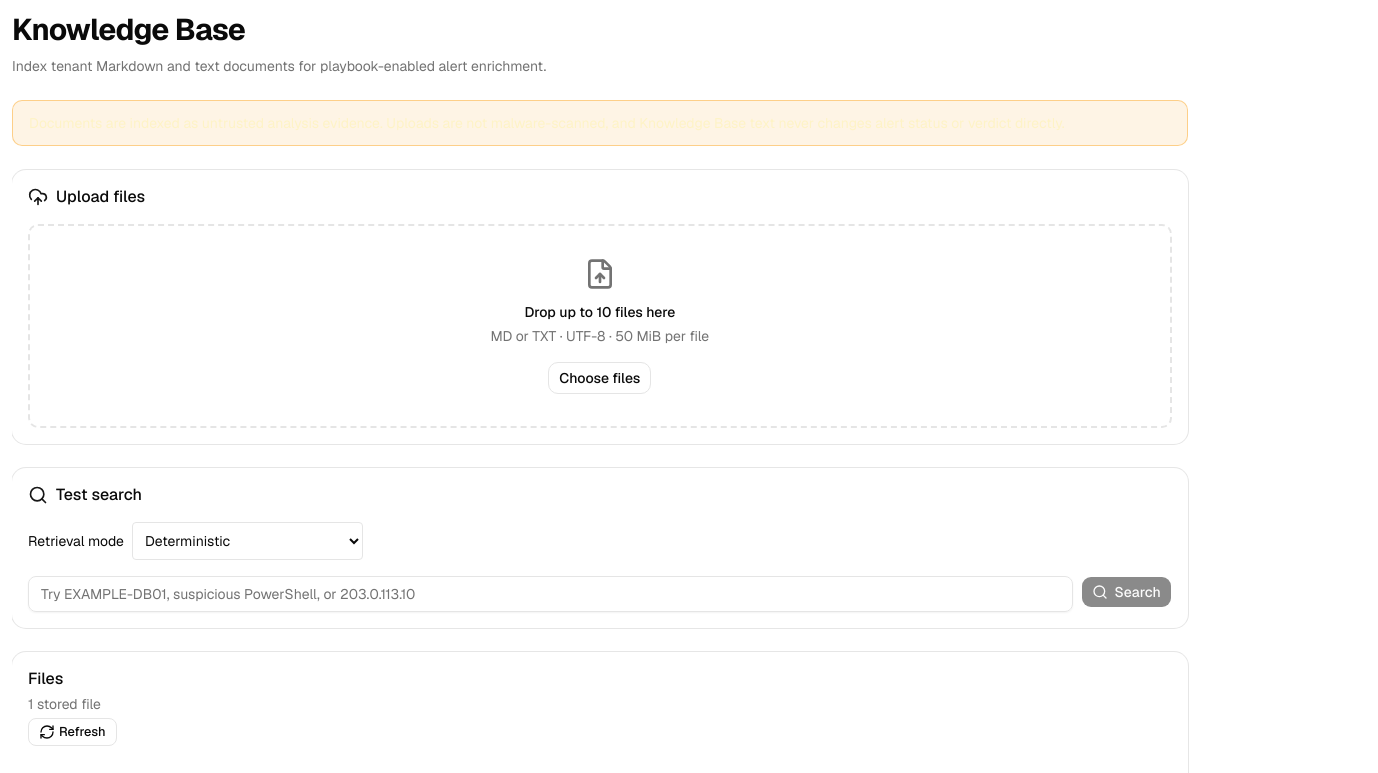
Test case: KnowledgeBaseView › shows deterministic manual search matches
This screenshot has width=1378, height=773.
Step 1. Type "EXAMPLE-DB01" into the field with placeholder "Try EXAMPLE-DB01, suspicious PowerShell, or 203.0.113.10" → (551, 594), box [28, 576, 1073, 612]
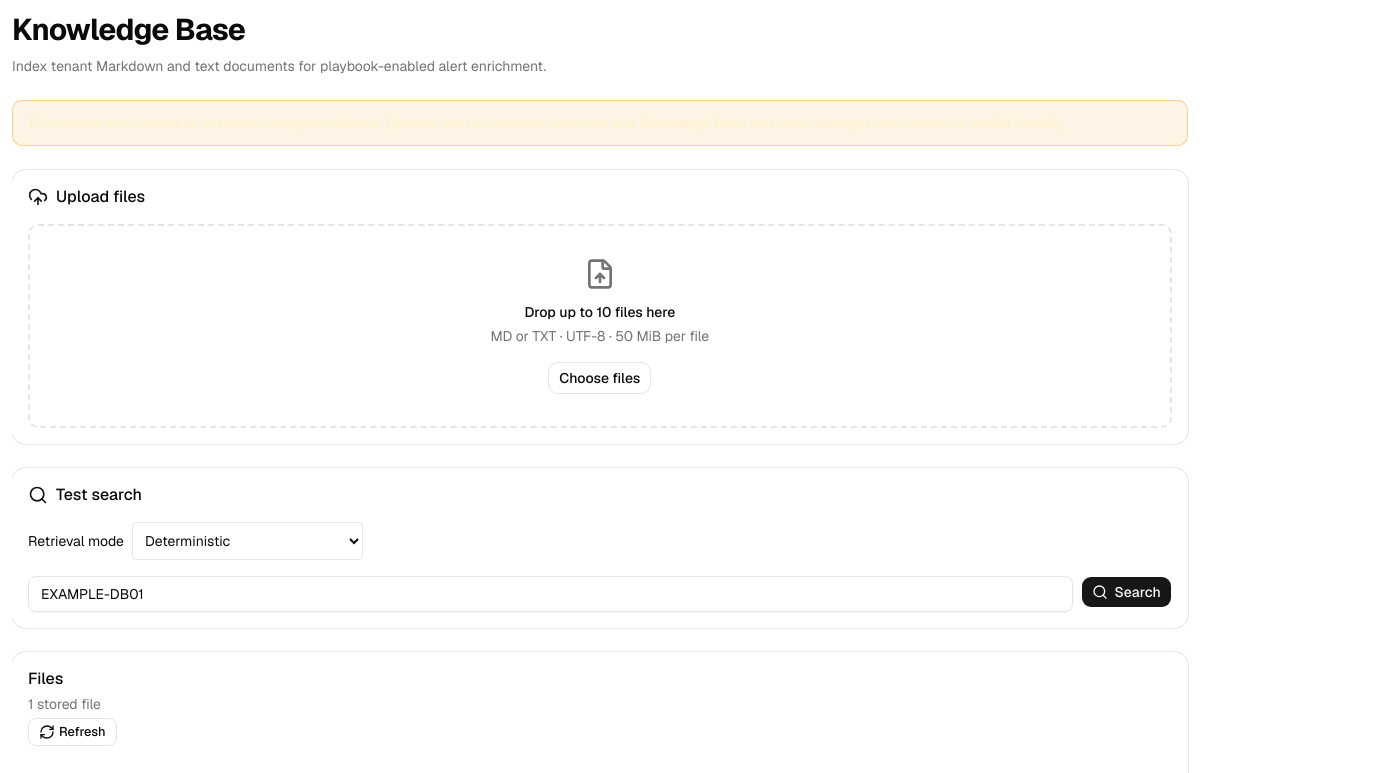
Step 2. Click the button "Search" → (1127, 592), box [1081, 576, 1172, 608]
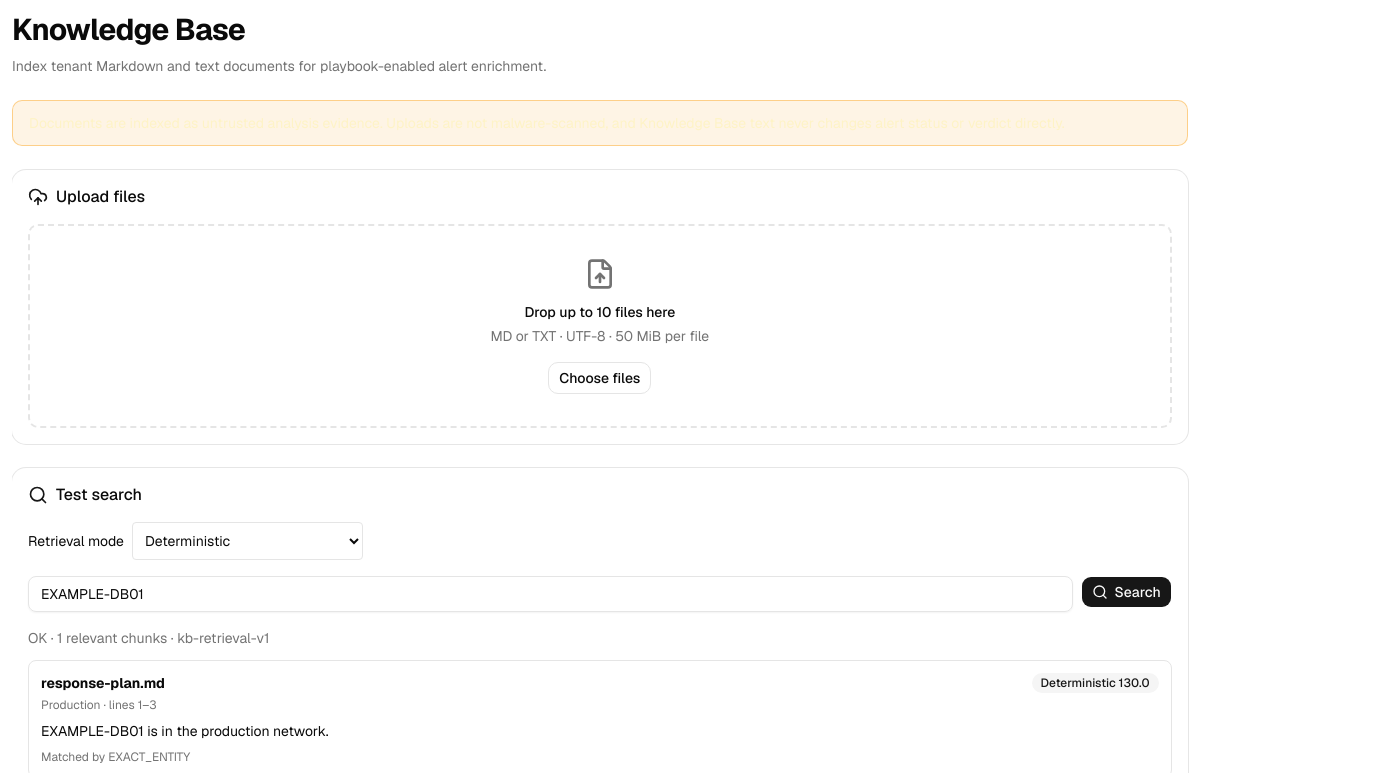
Check: the text "EXAMPLE-DB01 is in the production network." is shown, box [41, 722, 328, 740]
Check: the text "Matched by EXACT_ENTITY" is shown, box [41, 749, 190, 765]
